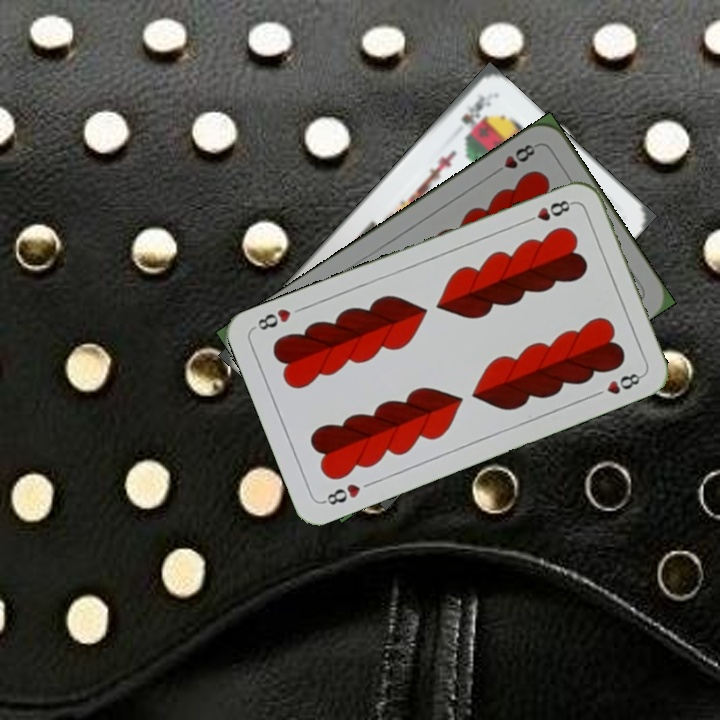H8: (488, 140, 541, 178), (520, 196, 576, 226), (319, 479, 363, 508)
SK: (457, 91, 494, 128)
